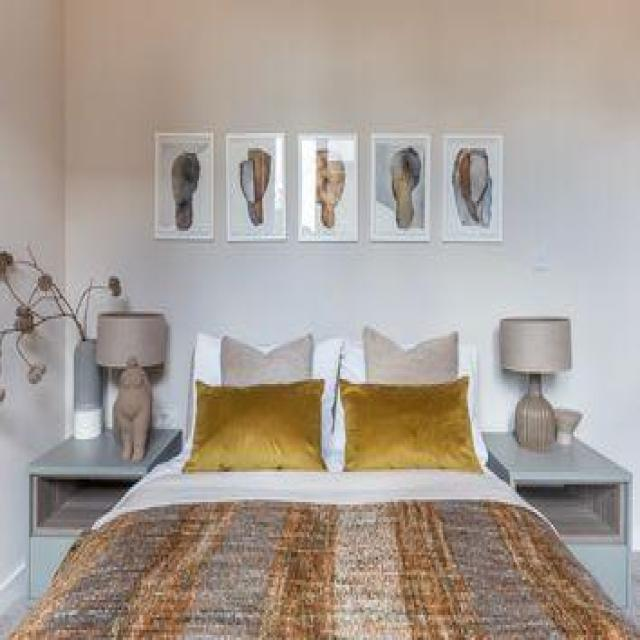Wall: (0, 1, 640, 547), (65, 2, 640, 264), (0, 319, 79, 608)
